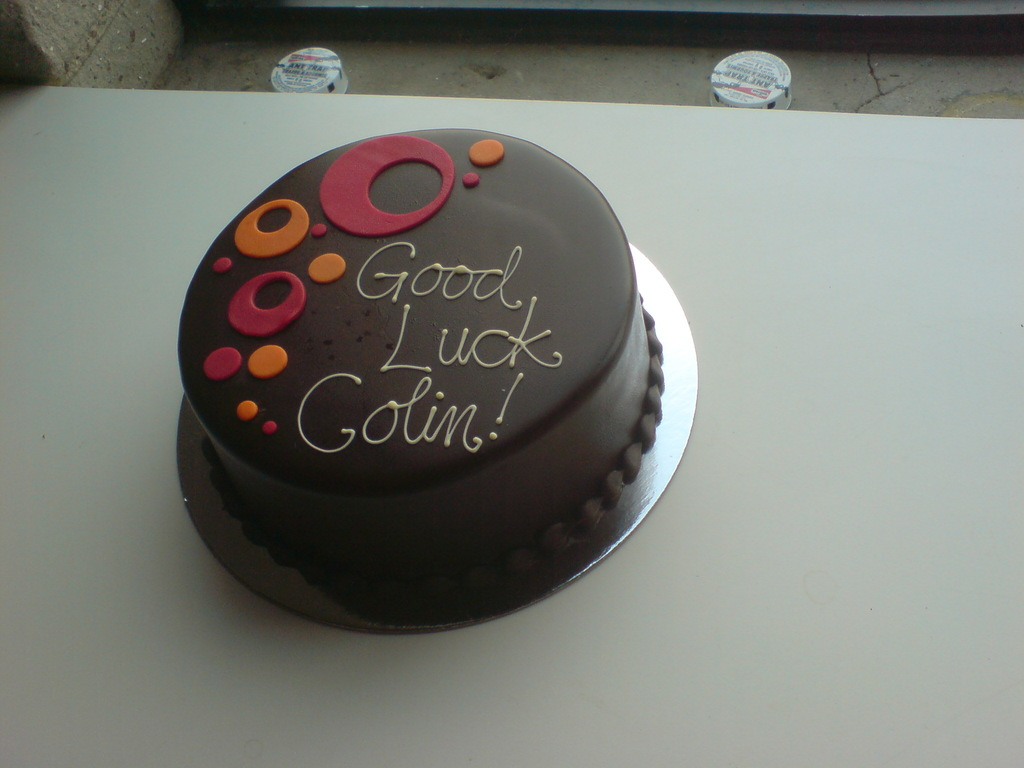cake: (178, 124, 662, 594)
